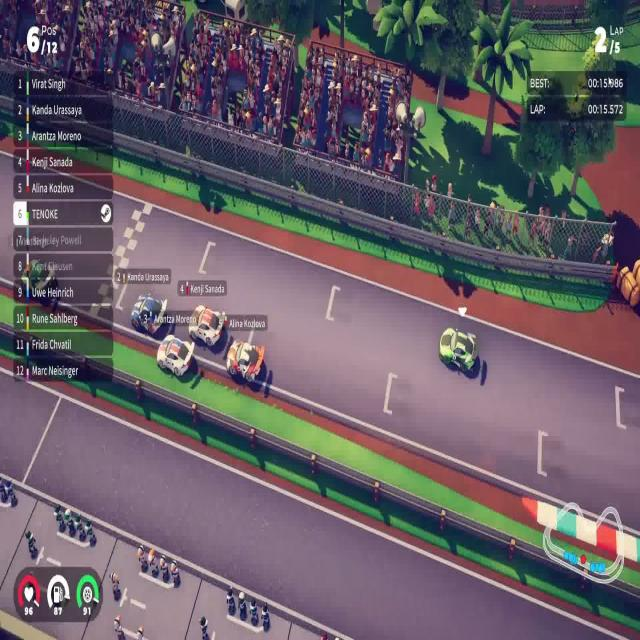car: (438, 326, 478, 374), (226, 338, 266, 384), (156, 333, 195, 378), (188, 303, 226, 347), (130, 293, 168, 336)
